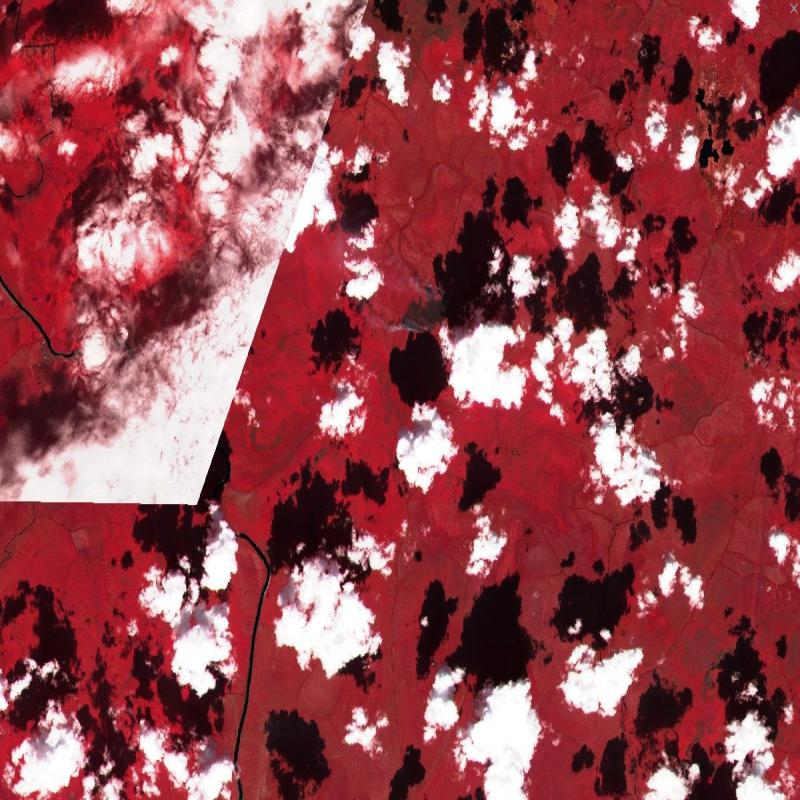fire: (386, 270, 462, 357)
